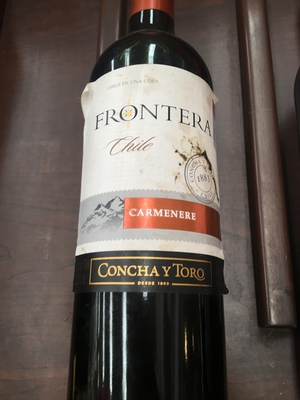frontera carmenere: (82, 10, 226, 400)
